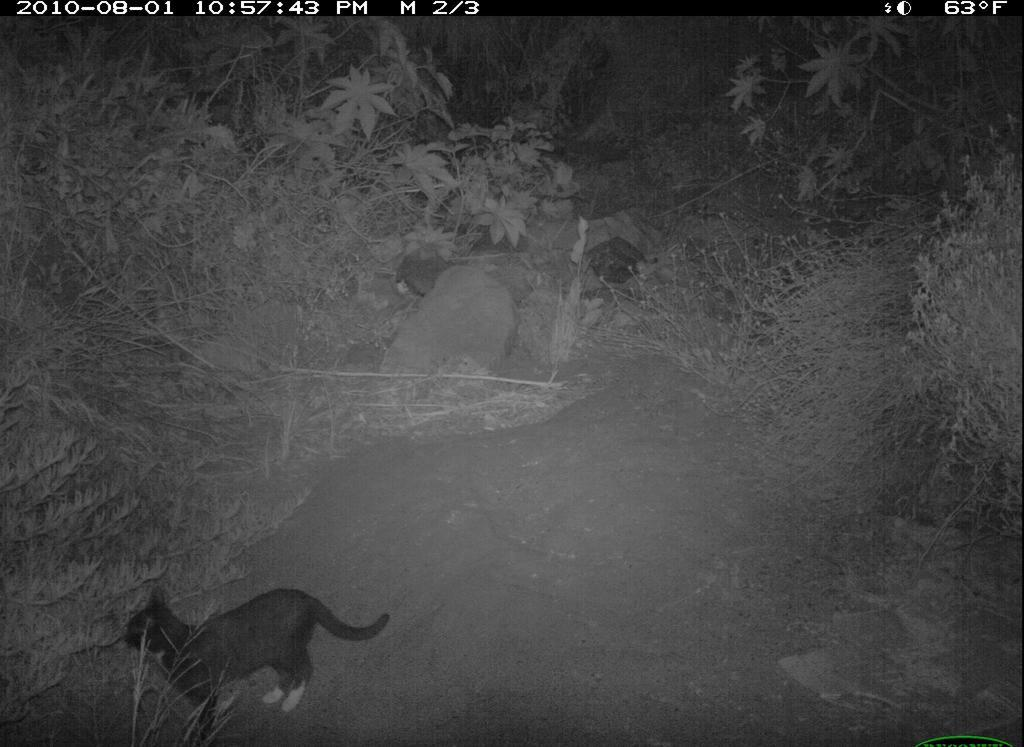cat: (121, 565, 397, 731)
